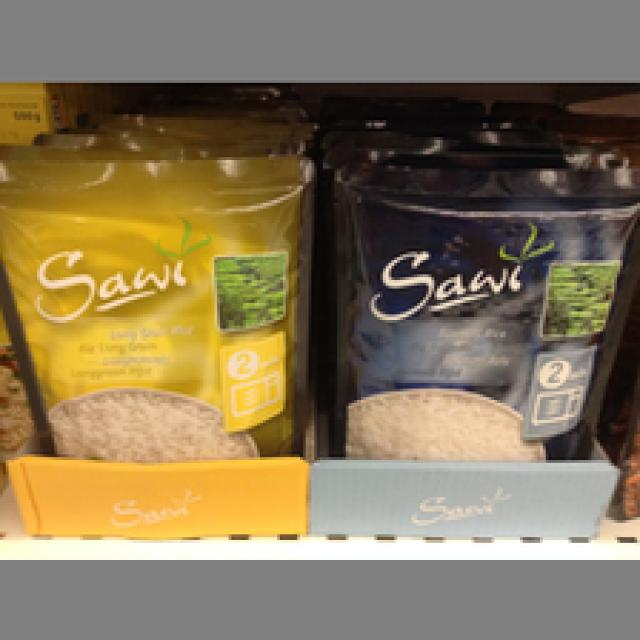groceries: (0, 142, 314, 457), (326, 154, 637, 463)
